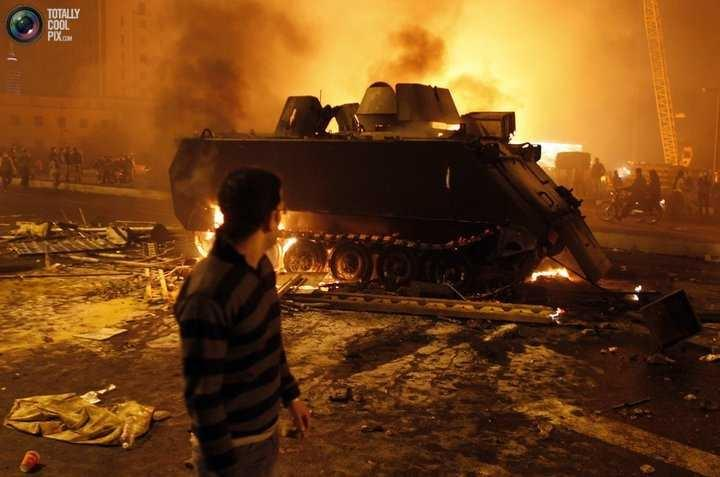fire: (433, 80, 556, 133), (519, 260, 594, 300)
smoke: (178, 16, 276, 127)
